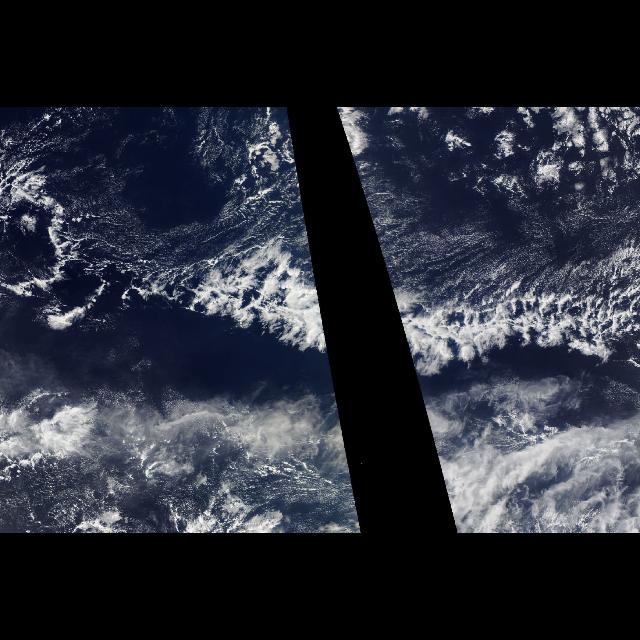Fish: (370, 217, 640, 397), (110, 217, 336, 397)
Sugar: (14, 111, 318, 287), (334, 111, 636, 287), (23, 394, 345, 530)
